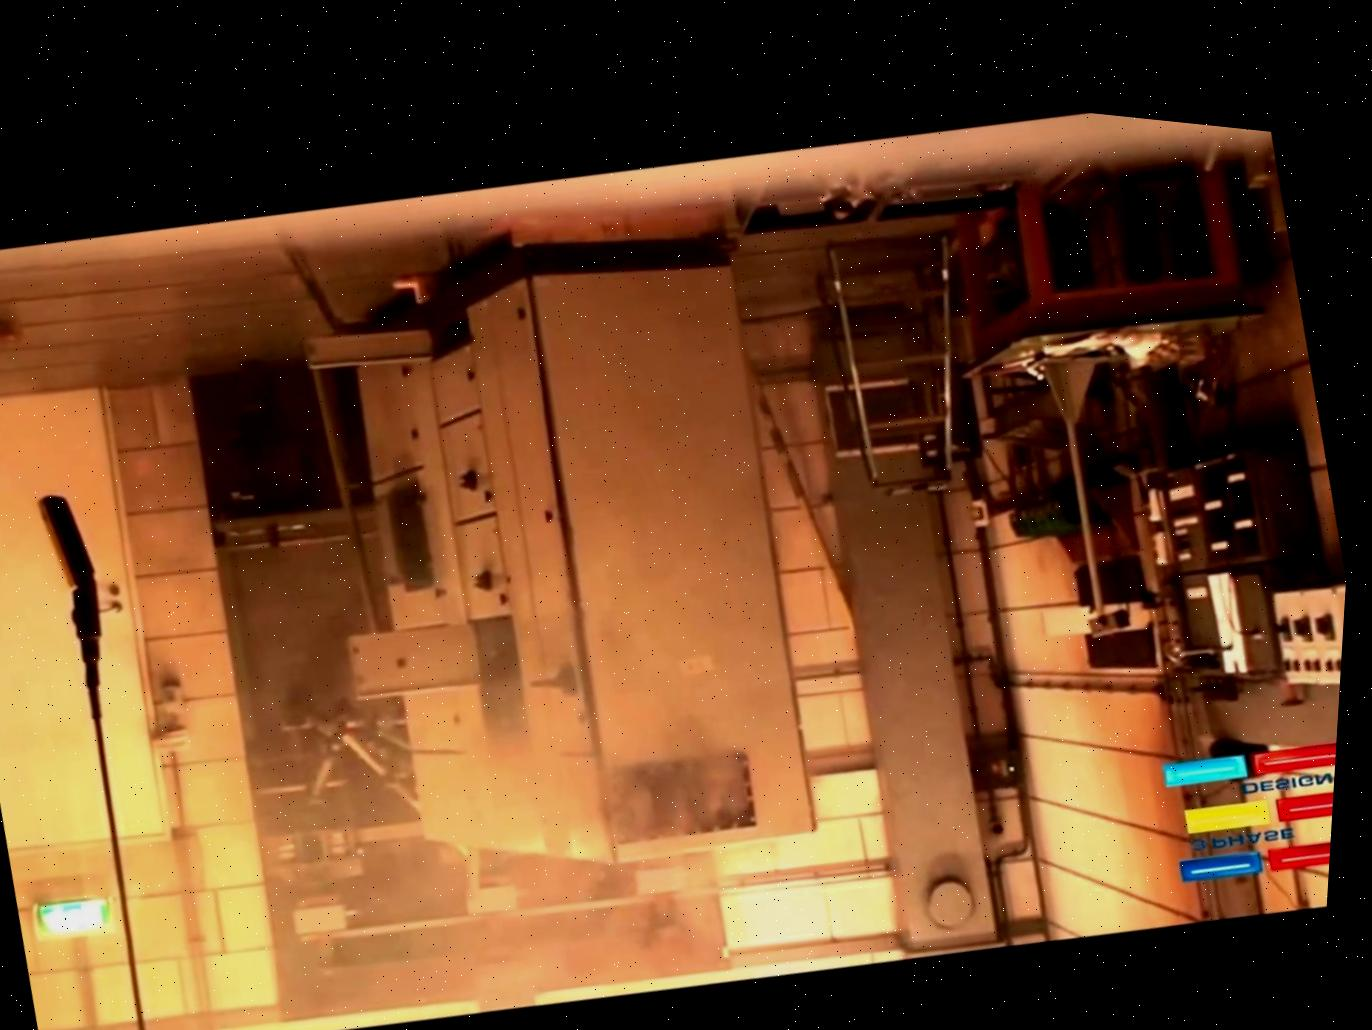fire: (177, 406, 1006, 921)
